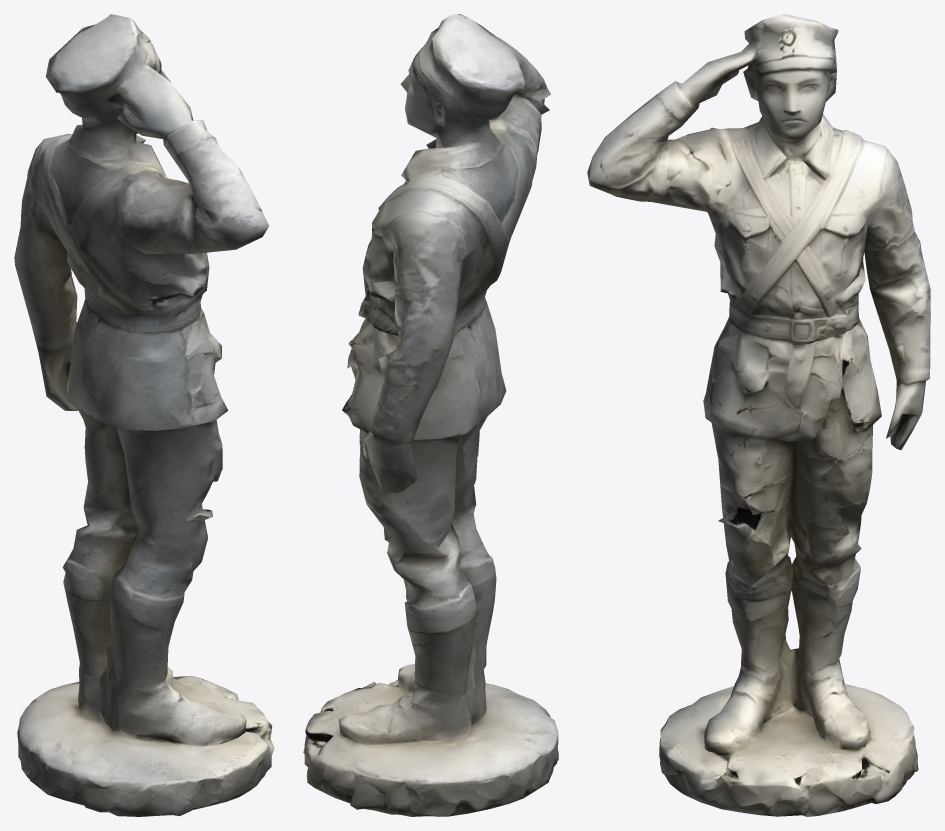
File: sn_statue.glb
3 renders of one model, left to right at view 1: azimuth 30°, elevation 25°; view 2: azimuth 150°, elevation 25°; view 3: azimuth 270°, elevation 25°, orthographic.
Visible parts, largest first — view 1: tripo_node_96a7d011-63c2-4322-a6ca-abe33d4d95cf; view 2: tripo_node_96a7d011-63c2-4322-a6ca-abe33d4d95cf; view 3: tripo_node_96a7d011-63c2-4322-a6ca-abe33d4d95cf.
Part boxes in pixels (box(x1,y1,x2,y2)): tripo_node_96a7d011-63c2-4322-a6ca-abe33d4d95cf: box(14, 14, 274, 816); tripo_node_96a7d011-63c2-4322-a6ca-abe33d4d95cf: box(303, 14, 558, 816); tripo_node_96a7d011-63c2-4322-a6ca-abe33d4d95cf: box(587, 14, 930, 816).
Bounding box in the file's own units: 0.309 × 1 × 0.4187.
Materials: 1 (1 with a texture image).
